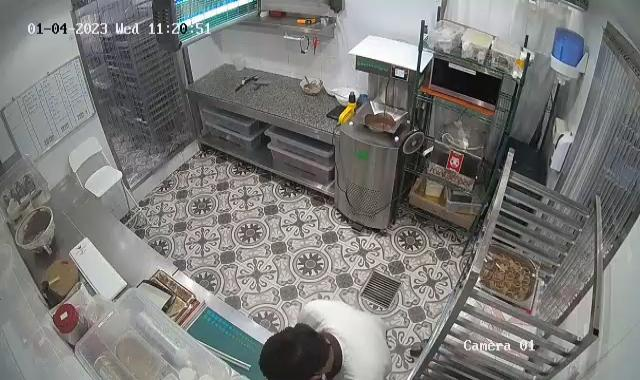no_hairnet: (261, 322, 332, 378)
